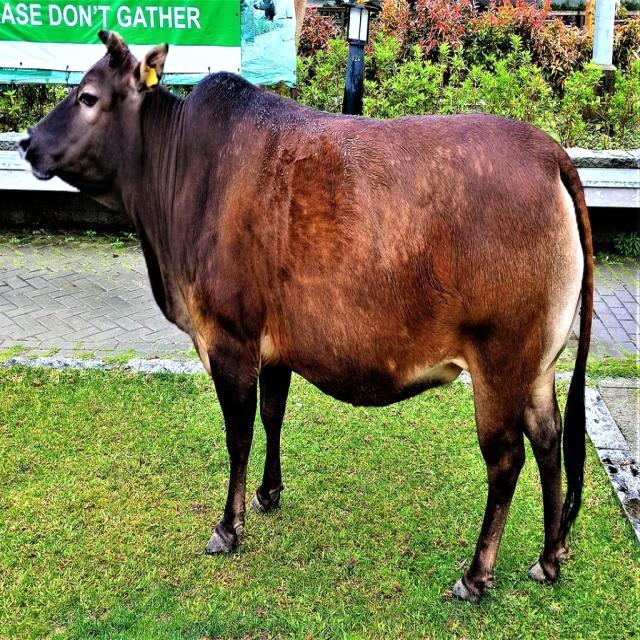COW: (20, 32, 592, 600)
